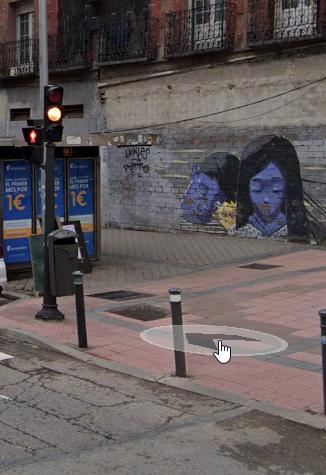yellow_light: (43, 85, 64, 142)
